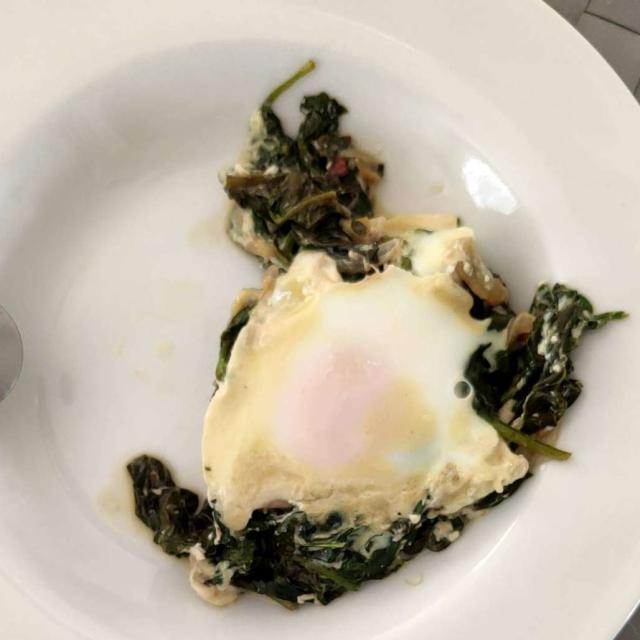egg: (208, 226, 534, 532)
leaf-spinach: (152, 283, 590, 589), (203, 106, 378, 472)
